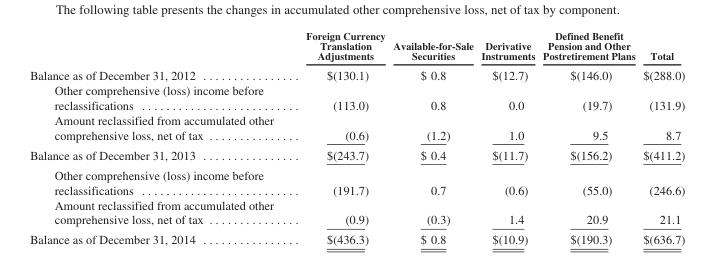table: (29, 29, 684, 246)
table column: (29, 29, 289, 246), (538, 29, 638, 246), (289, 29, 388, 246), (388, 29, 476, 246), (476, 29, 538, 246), (638, 29, 684, 246)
table column header: (29, 29, 684, 64)
table row: (29, 29, 684, 64), (29, 196, 684, 229), (29, 112, 684, 144), (29, 164, 684, 196), (29, 82, 684, 112), (29, 144, 684, 164), (29, 64, 684, 82), (29, 229, 684, 246)
